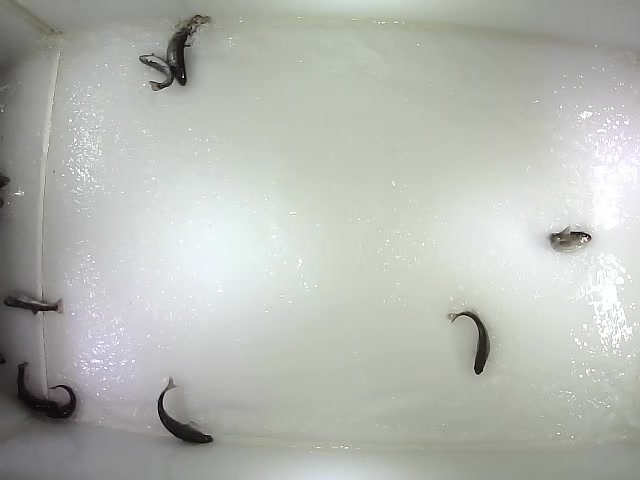fish: (155, 374, 214, 446), (165, 14, 213, 87), (446, 307, 492, 377), (16, 361, 60, 412), (3, 291, 66, 318), (138, 52, 175, 93), (548, 225, 593, 256), (45, 384, 78, 421)
